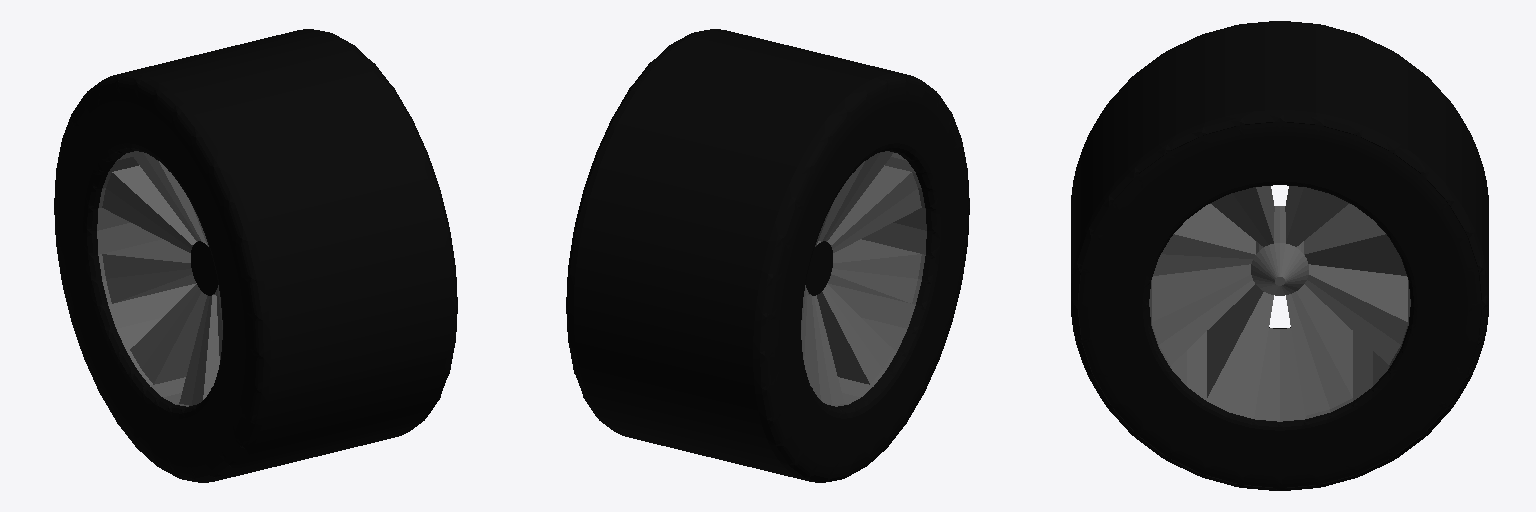
Rendered from empaler_truck_front_wheel.obj.
The picture shows the model from 3 angles: view 1: azimuth 30°, elevation 25°; view 2: azimuth 150°, elevation 25°; view 3: azimuth 270°, elevation 25°; orthographic projection.
Parts seen in each view (by area): view 1: Cylinder.007; view 2: Cylinder.007; view 3: Cylinder.007.
Part boxes in pixels (left/top/right/bottom): Cylinder.007: left=54, top=29, right=457, bottom=482; Cylinder.007: left=566, top=29, right=969, bottom=482; Cylinder.007: left=1071, top=21, right=1488, bottom=490.
Bounding box in the file's own units: 0.7313 × 1.29 × 1.29.